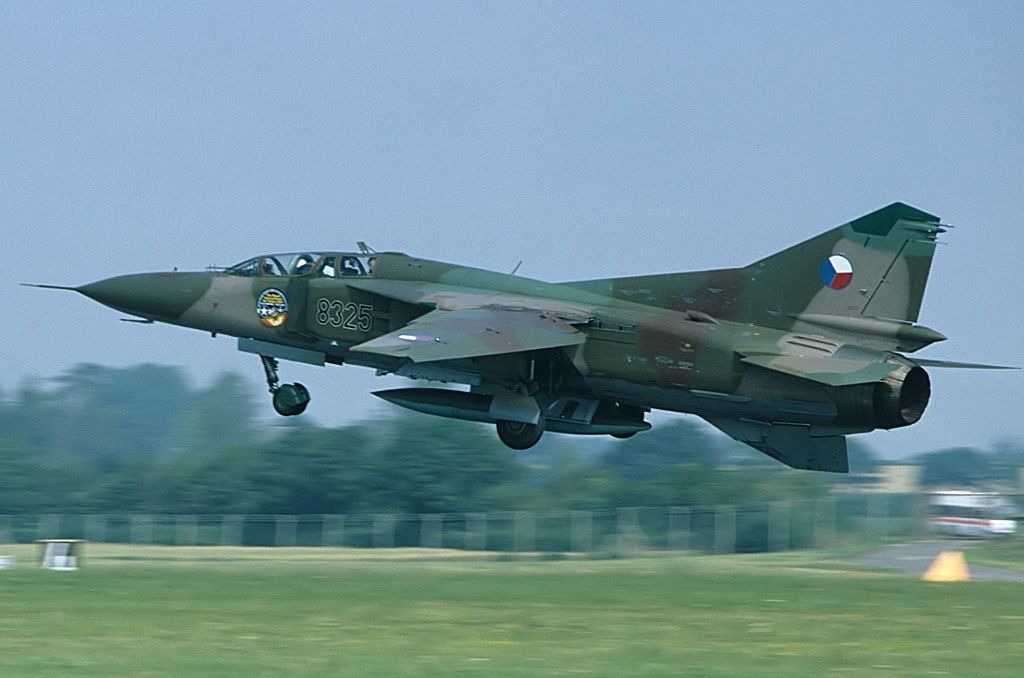Aeronef_militaire: (14, 189, 1024, 477)
